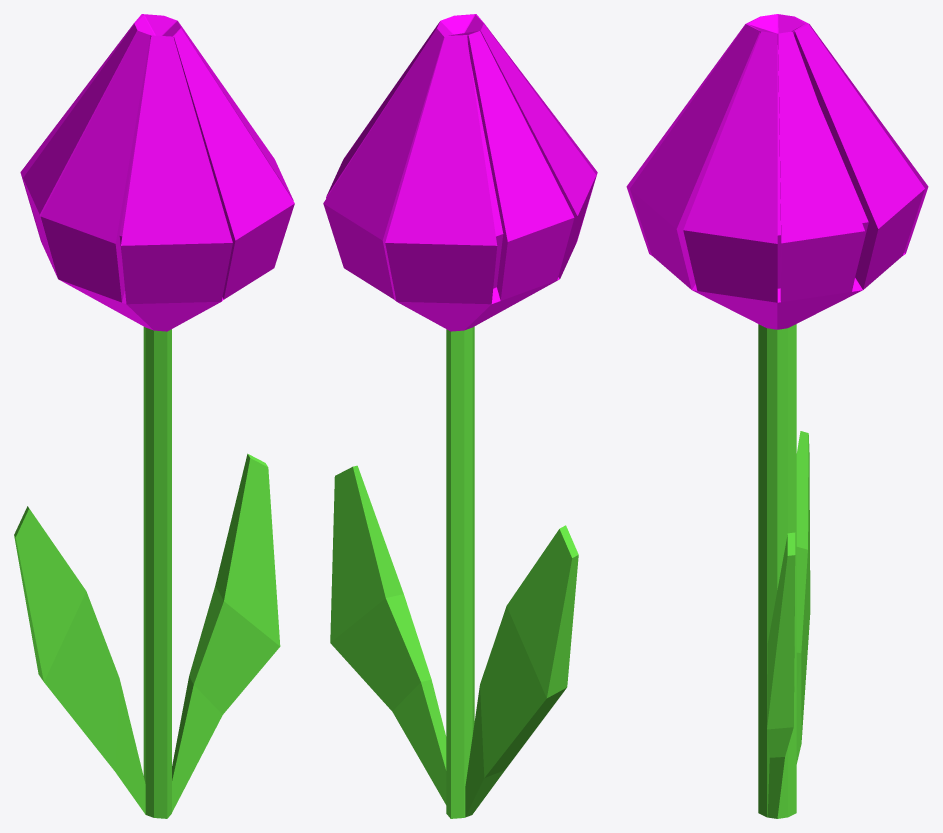
Rendered from Flor_005_LOD.fbx.
The picture shows the model from 3 angles, left to right: view 1: azimuth 30°, elevation 25°; view 2: azimuth 150°, elevation 25°; view 3: azimuth 270°, elevation 25°; orthographic projection.
Visible parts, largest first — view 1: Flor_005_LOD0; view 2: Flor_005_LOD0; view 3: Flor_005_LOD0.
Boxes of the visible parts, left/top/right/bottom form: Flor_005_LOD0: left=14, top=14, right=294, bottom=818; Flor_005_LOD0: left=323, top=14, right=597, bottom=818; Flor_005_LOD0: left=626, top=14, right=928, bottom=818.
Size of what is drawn, in the model's own units: 71.65 by 213 by 74.04.
